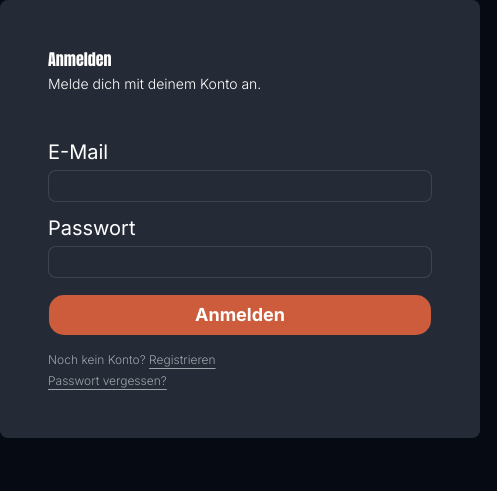
AnmeldenForm › zeigt eine Fehlermeldung, wenn die Server Action einen Fehler zurückgibt
Type "test@example.com" into the field labelled "E-Mail".
click(240, 186); type("test@example.com")  # box [48, 170, 432, 202]
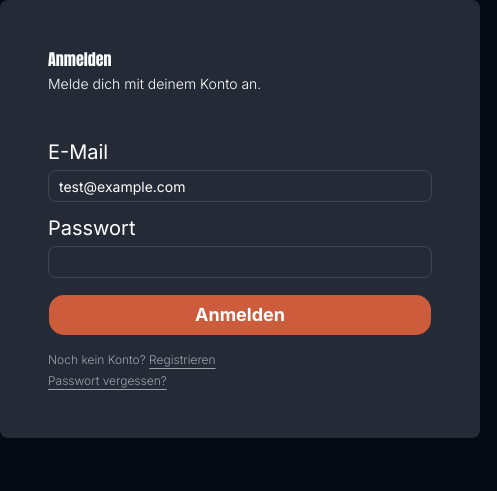
Type "irgendwas" into the password field labelled "Passwort".
click(240, 262); type("irgendwas")  # box [48, 246, 432, 278]
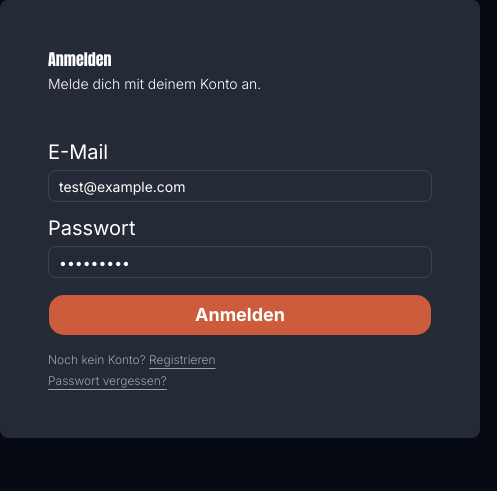
Click the button "Anmelden".
click(240, 315)  # box [48, 294, 432, 336]
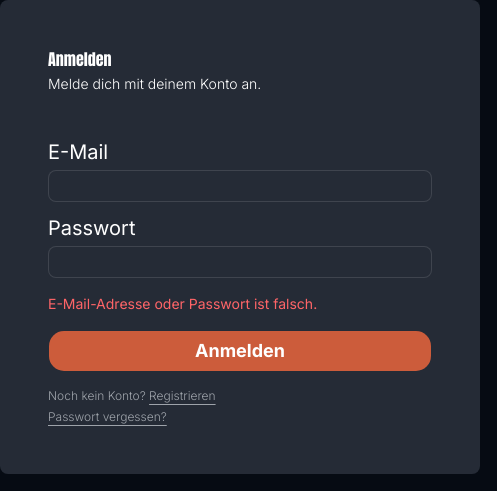
Now the message reads "E-Mail-Adresse oder Passwort ist falsch.", box [48, 295, 317, 312]
